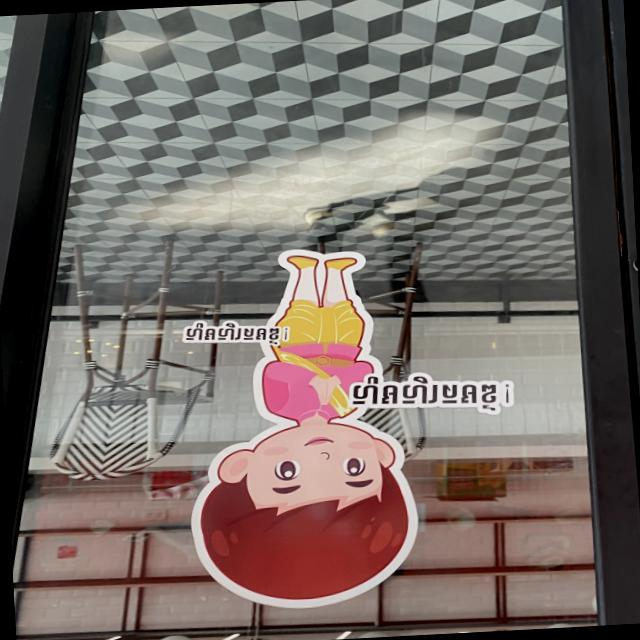Yolov11_80vkh: (343, 370, 523, 414), (178, 320, 293, 347)
